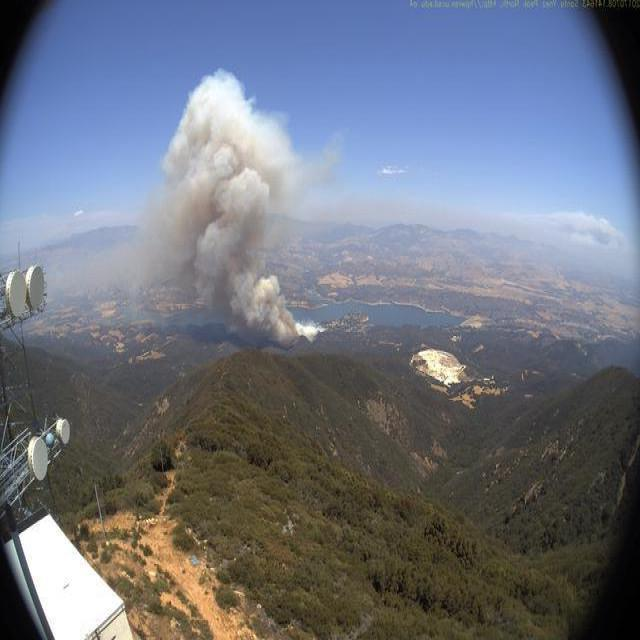Smoke: (92, 60, 342, 344)
